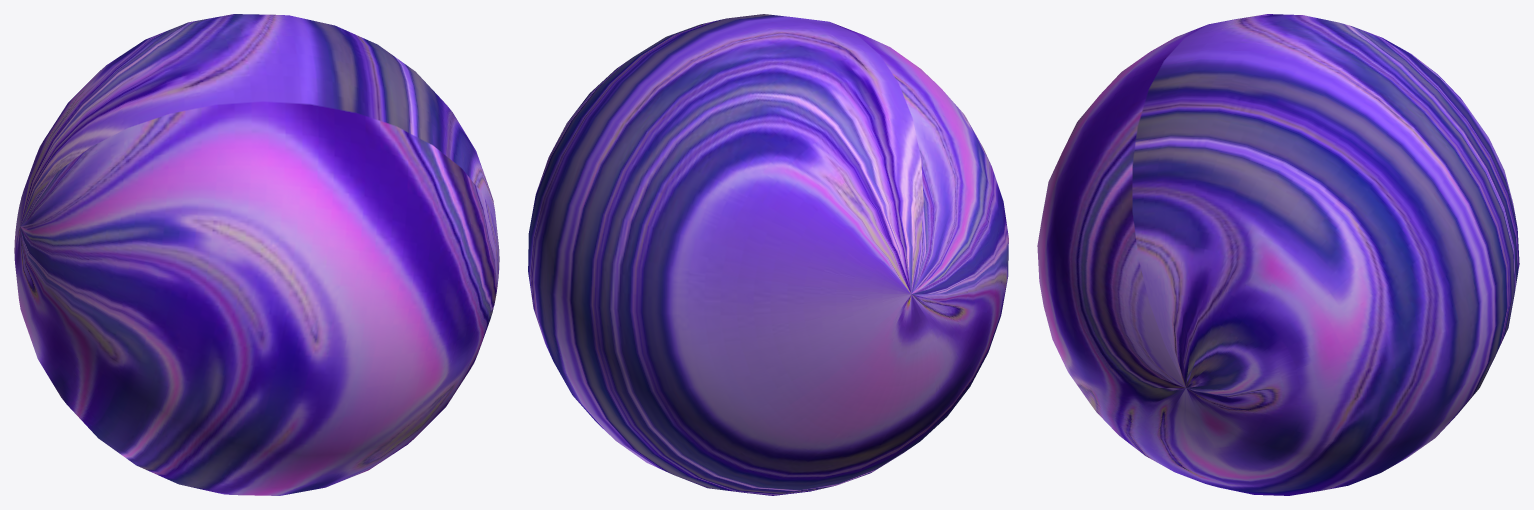
3 renders of one model, left to right at view 1: azimuth 30°, elevation 25°; view 2: azimuth 150°, elevation 25°; view 3: azimuth 270°, elevation 25°, orthographic.
Visible parts, largest first — view 1: Sphere.003; view 2: Sphere.003; view 3: Sphere.003.
Part boxes in pixels (x1=…): Sphere.003: x1=14, y1=14, x2=499, y2=495; Sphere.003: x1=528, y1=14, x2=1008, y2=495; Sphere.003: x1=1037, y1=14, x2=1519, y2=495.
Bounding box in the file's own units: 0.3559 × 0.3556 × 0.3559.
1 material, 1 textured.
